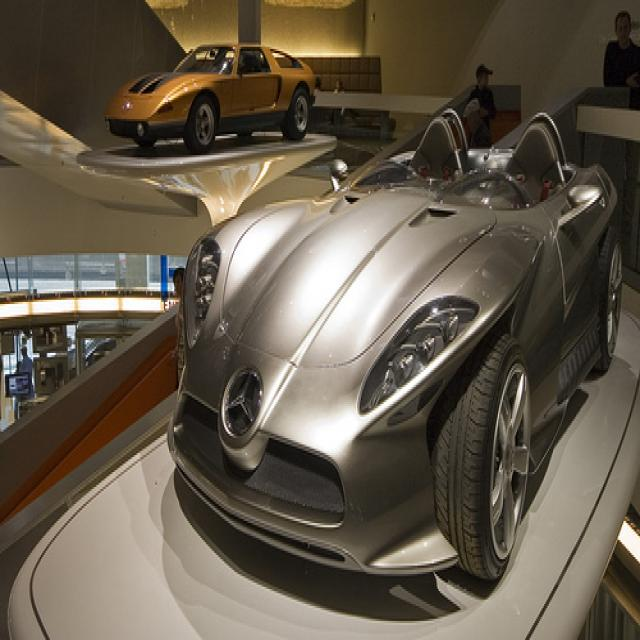Car: (167, 108, 624, 590), (104, 38, 321, 151)
